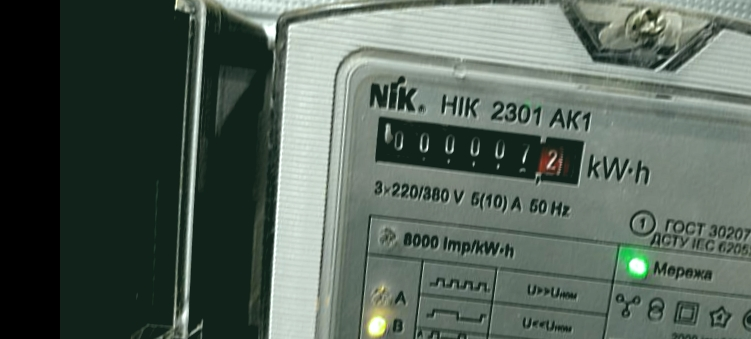0: (393, 127, 411, 153), (470, 134, 487, 159), (445, 132, 461, 157), (495, 137, 511, 161), (419, 131, 435, 154)
2: (547, 148, 563, 172)
7: (521, 140, 536, 165)
screen: (365, 103, 599, 198)
